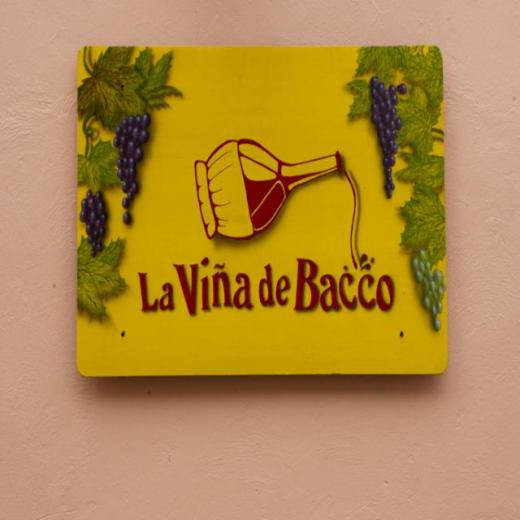Orange: (369, 77, 408, 196), (110, 111, 150, 225), (410, 250, 446, 329), (78, 190, 108, 254)
